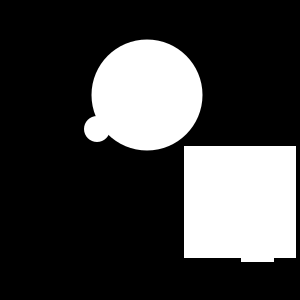circle: (184, 146, 296, 258), (241, 229, 274, 262)
rectangle: (92, 39, 202, 150), (84, 116, 110, 142)
